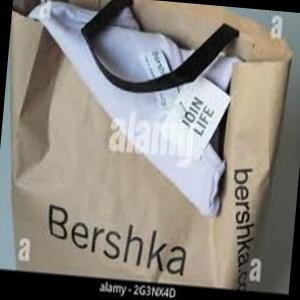bershka: (39, 197, 192, 279), (222, 166, 260, 267)
